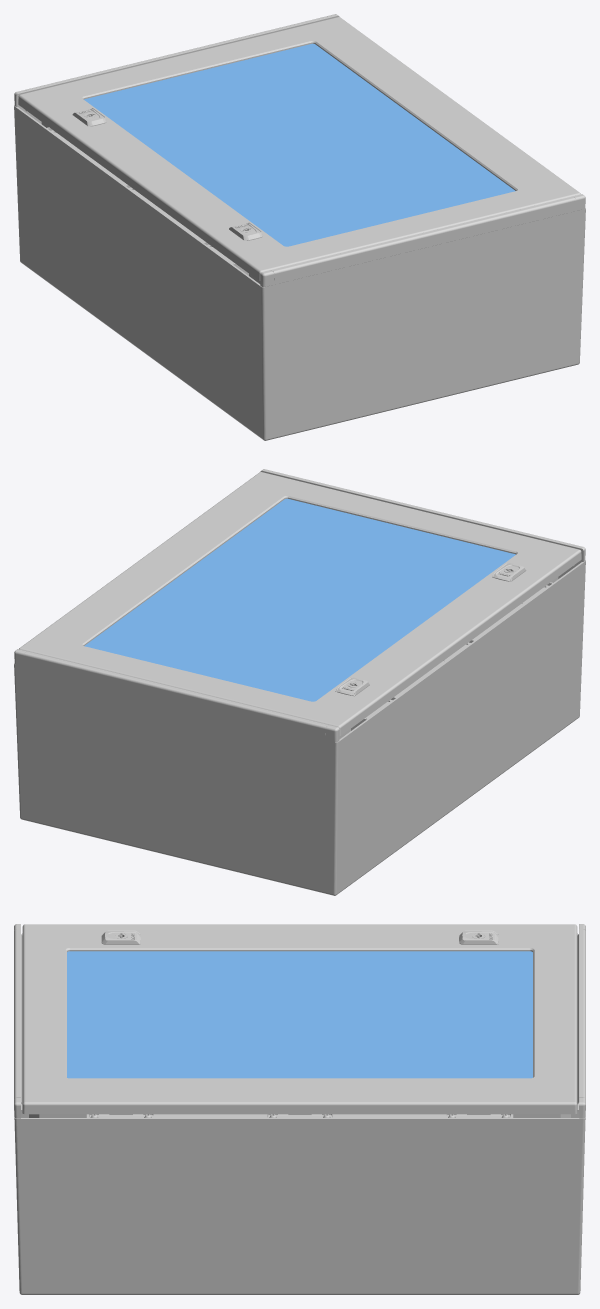
Rendered from kast4.gltf.
The picture shows the model from 3 angles, top to bottom: view 1: azimuth 30°, elevation 25°; view 2: azimuth 150°, elevation 25°; view 3: azimuth 270°, elevation 25°; orthographic projection. The views are drawn at different scales.
Parts seen in each view (by area): view 1: Node2, Node7, Node1, Node4; view 2: Node2, Node7, Node1, Node4; view 3: Node2, Node7, Node1, Node4.
Part boxes in pixels (bbox=[...]): Node2: bbox=[14, 14, 585, 440]; Node7: bbox=[84, 43, 515, 246]; Node1: bbox=[14, 14, 585, 440]; Node4: bbox=[72, 108, 262, 273]; Node2: bbox=[14, 469, 585, 894]; Node7: bbox=[84, 498, 515, 701]; Node1: bbox=[14, 469, 585, 895]; Node4: bbox=[19, 549, 581, 696]; Node2: bbox=[14, 924, 585, 1294]; Node7: bbox=[67, 951, 532, 1078]; Node1: bbox=[14, 924, 585, 1294]; Node4: bbox=[24, 924, 577, 1114].
Bounding box in the file's own units: 599 × 307 × 800.
